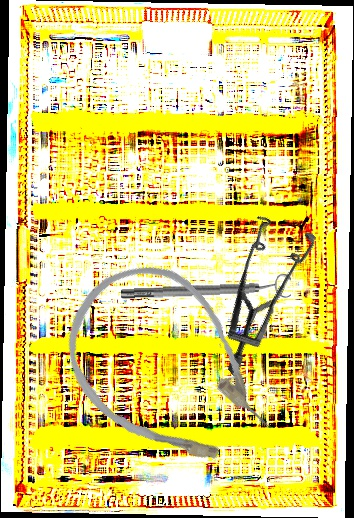Cannula: (35, 237, 301, 506)
Fixation Ring: (120, 273, 292, 306)
Speculum: (166, 196, 354, 378)
